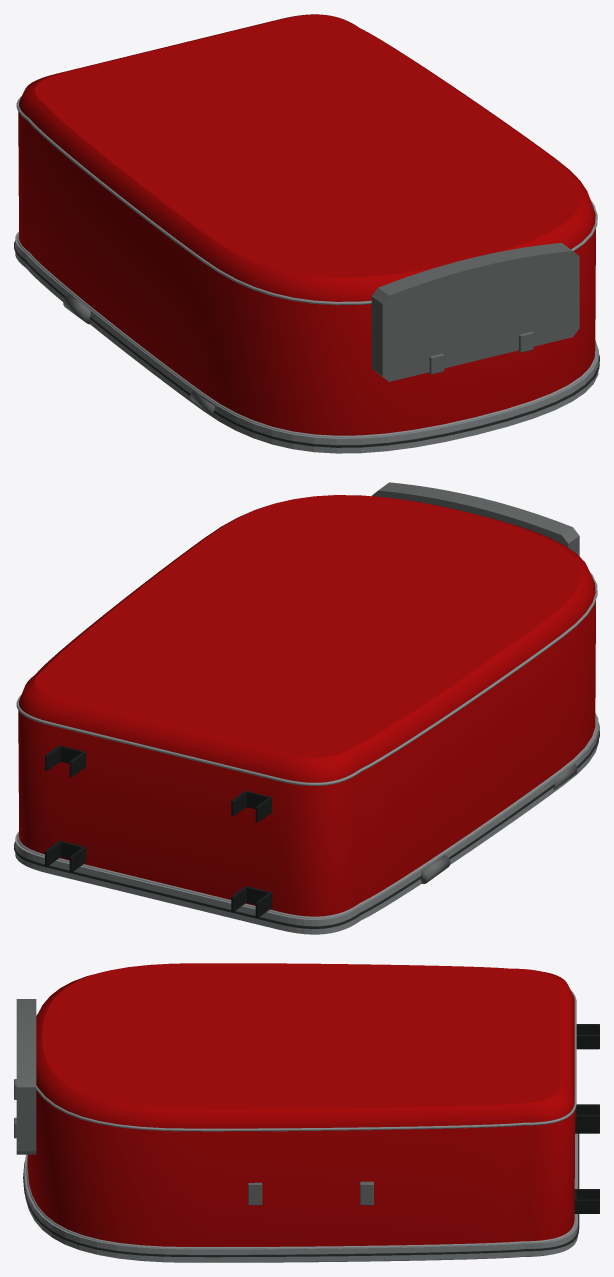
Rendered from fixed_root.obj.
The picture shows the model from 3 angles, top to bottom: view 1: azimuth 30°, elevation 25°; view 2: azimuth 150°, elevation 25°; view 3: azimuth 270°, elevation 25°; orthographic projection. The views are drawn at different scales.
Parts seen in each view (by area): view 1: rear_case_shell, telescopic_handle_base_plate, continuous_silver_zipper_band, narrow_zipper_center, zipper_rear_welting, rear_shell_thin_piping; view 2: rear_case_shell, continuous_silver_zipper_band, telescopic_handle_base_plate, rear_shell_thin_piping, narrow_zipper_center, zipper_rear_welting; view 3: rear_case_shell, continuous_silver_zipper_band, telescopic_handle_base_plate, rear_shell_thin_piping, narrow_zipper_center, zipper_rear_welting, zipper_front_welting.
Part boxes in pixels (left/top/right/bottom): rear_case_shell: left=18, top=14, right=595, bottom=435; telescopic_handle_base_plate: left=371, top=243, right=579, bottom=381; continuous_silver_zipper_band: left=15, top=231, right=598, bottom=453; narrow_zipper_center: left=14, top=240, right=599, bottom=447; zipper_rear_welting: left=17, top=235, right=596, bottom=437; rear_shell_thin_piping: left=16, top=96, right=597, bottom=305; rear_case_shell: left=18, top=495, right=595, bottom=916; continuous_silver_zipper_band: left=15, top=713, right=598, bottom=934; telescopic_handle_base_plate: left=372, top=482, right=579, bottom=555; rear_shell_thin_piping: left=16, top=572, right=597, bottom=785; narrow_zipper_center: left=14, top=723, right=599, bottom=928; zipper_rear_welting: left=17, top=717, right=596, bottom=918; rear_case_shell: left=27, top=963, right=575, bottom=1246; continuous_silver_zipper_band: left=24, top=1133, right=577, bottom=1262; telescopic_handle_base_plate: left=16, top=999, right=36, bottom=1154; rear_shell_thin_piping: left=36, top=990, right=576, bottom=1131; narrow_zipper_center: left=23, top=1133, right=579, bottom=1257; zipper_rear_welting: left=26, top=1133, right=575, bottom=1248; zipper_front_welting: left=106, top=1255, right=546, bottom=1262.
Bounding box in the file's own units: 0.4683 × 0.2125 × 0.7374.
